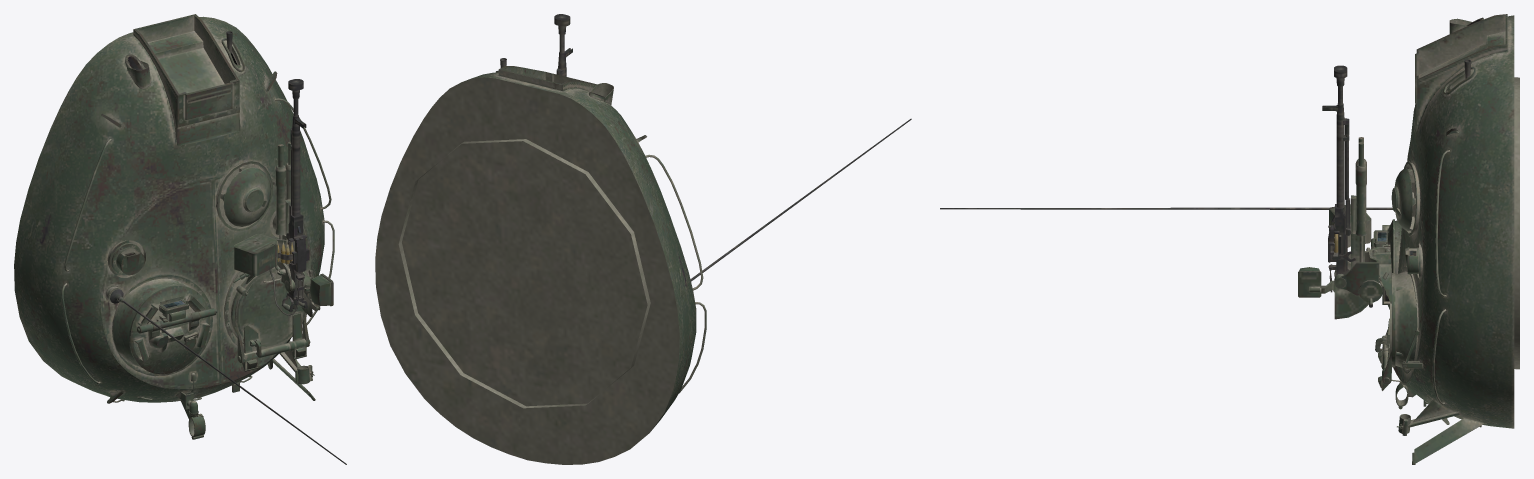
Rendered from Turret_02.glb.
3 renders of one model, left to right at view 1: azimuth 30°, elevation 25°; view 2: azimuth 150°, elevation 25°; view 3: azimuth 270°, elevation 25°, orthographic. The views are drawn at different scales.
Parts seen in each view (by area): view 1: set_0_group_0; view 2: set_0_group_0; view 3: set_0_group_0.
Part boxes in pixels (box(x1,y1,x2,y2)): set_0_group_0: box(14, 14, 346, 464); set_0_group_0: box(375, 14, 911, 464); set_0_group_0: box(940, 14, 1519, 464).
Size of the model in its own units: 2.19 by 2.66 by 3.62.
1 material, 1 textured.
